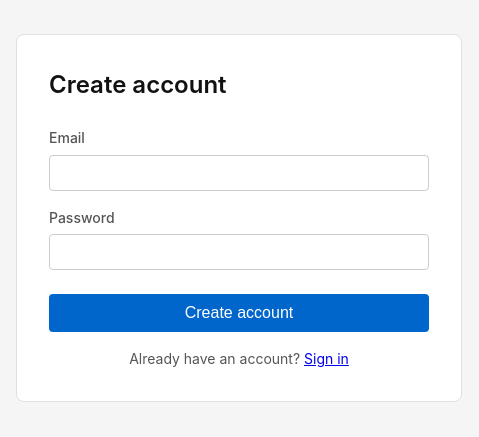
Scenario: RegisterPage › shows client-side validation error for short password
The width and height of the screenshot is (479, 437).
In the field labelled "Email": (239, 172) top-left (49, 154), bottom-right (429, 190), type "a@b.com"
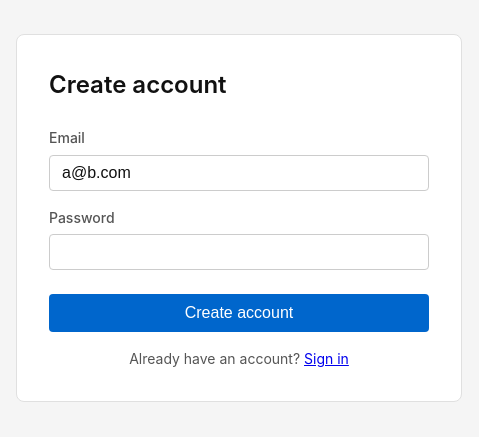
In the password field labelled "Password": (239, 252) top-left (49, 234), bottom-right (429, 270), type "short"
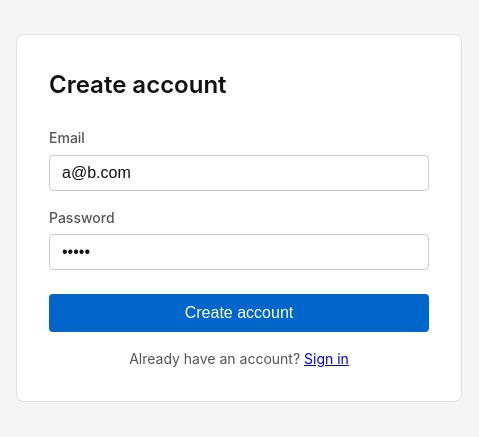
Click the button "Create account": (239, 313) top-left (49, 294), bottom-right (429, 332)
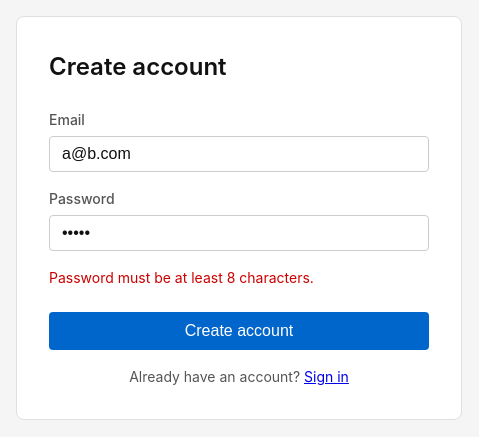
Result: the text "Password must be at least 8 characters." is shown at top-left (49, 269), bottom-right (314, 286)
